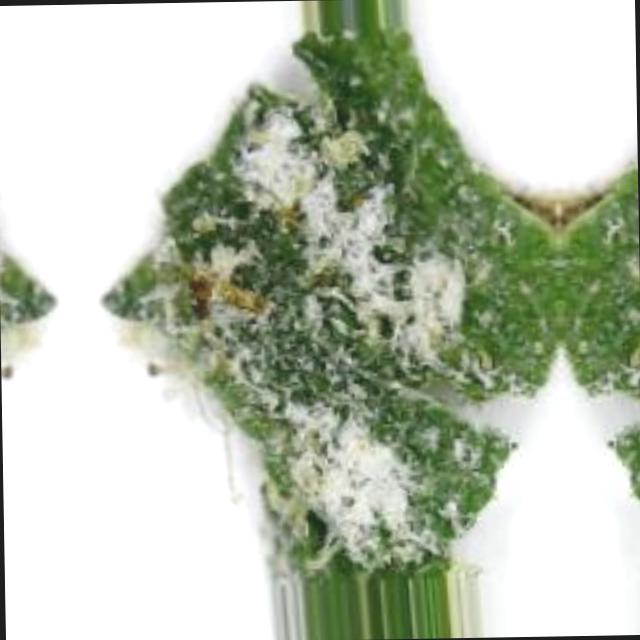Powdery_mildew: (77, 175, 235, 582), (186, 80, 300, 443), (0, 178, 84, 583)
